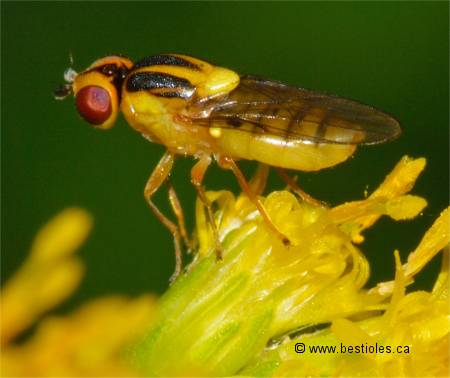Chloropidae: (51, 49, 404, 271)
